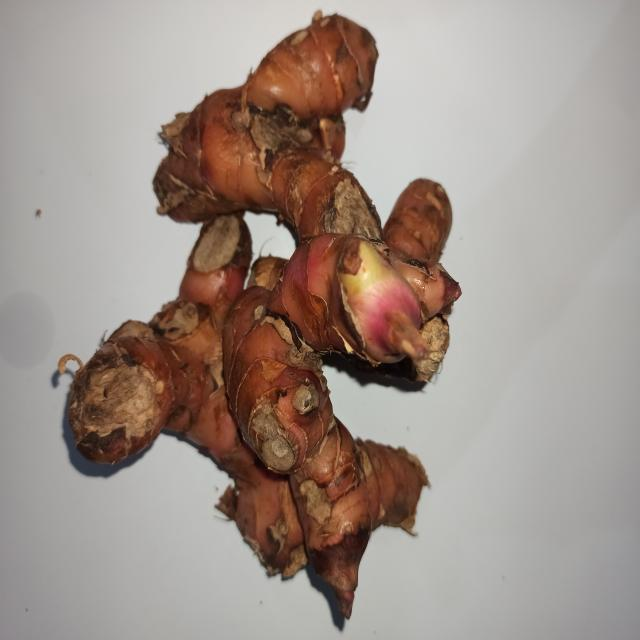ginger: (79, 21, 439, 580)
